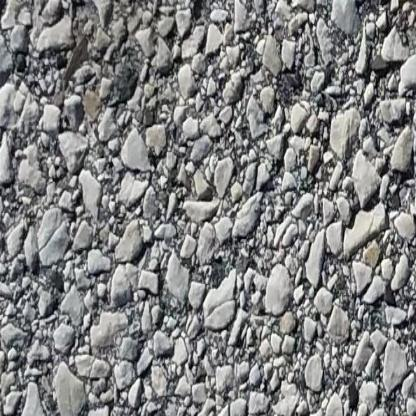Cracks: (0, 0, 27, 80), (379, 0, 416, 31)
